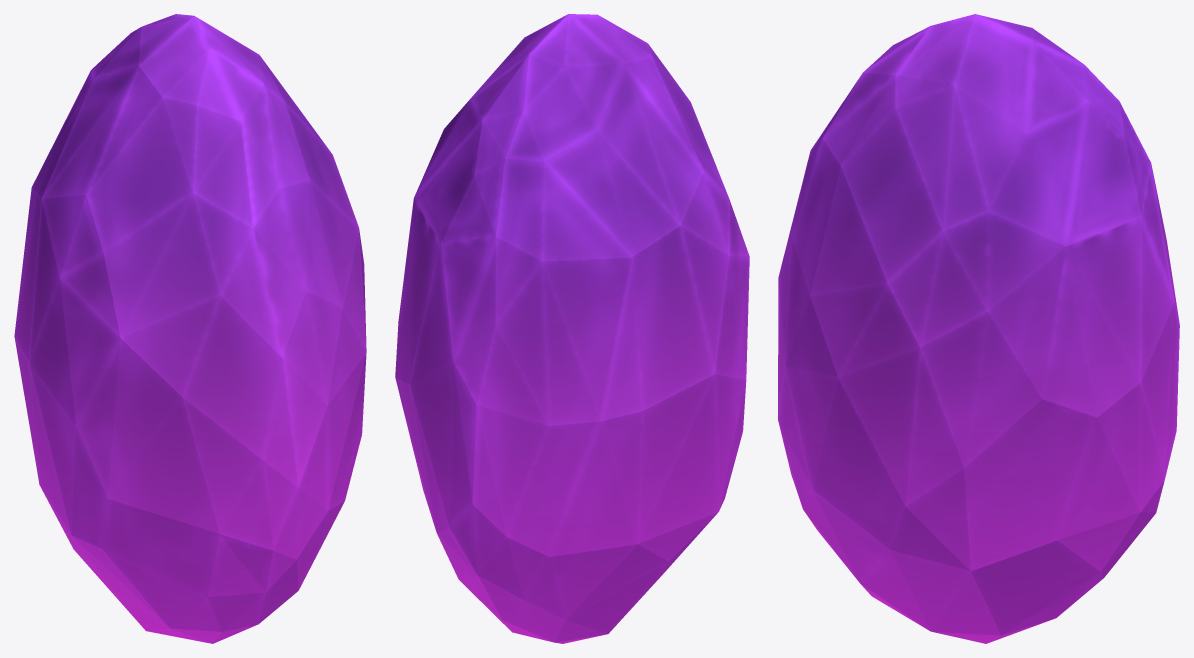
The model's file is boss_core_inner.fbx.
3 renders of one model, left to right at view 1: azimuth 30°, elevation 25°; view 2: azimuth 150°, elevation 25°; view 3: azimuth 270°, elevation 25°, orthographic.
Parts seen in each view (by area): view 1: boss_core_inner; view 2: boss_core_inner; view 3: boss_core_inner.
Boxes of the visible parts, box(x1,y1,x2,y2) form: boss_core_inner: box(14, 14, 366, 643); boss_core_inner: box(395, 14, 749, 643); boss_core_inner: box(778, 14, 1179, 643).
Bounding box in the file's own units: 5.52 × 10.9 × 6.3.
